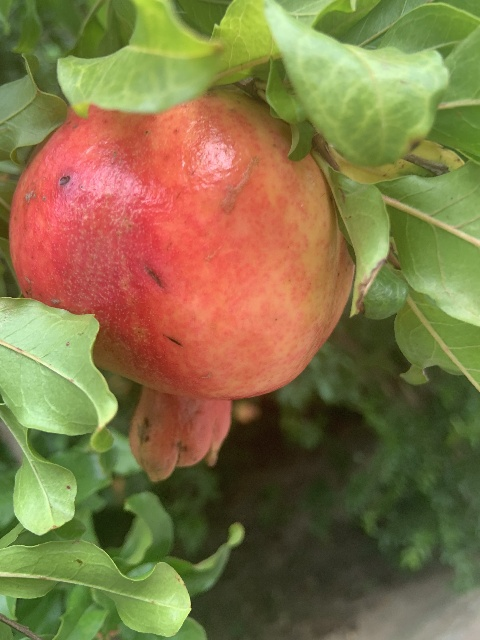ripe: (10, 84, 354, 482)
